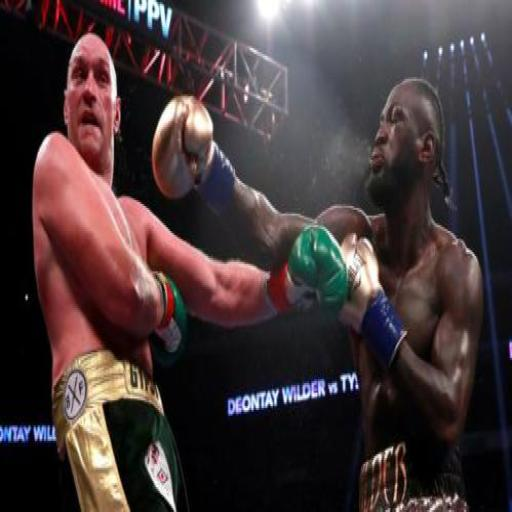boxing: (149, 67, 512, 510)
